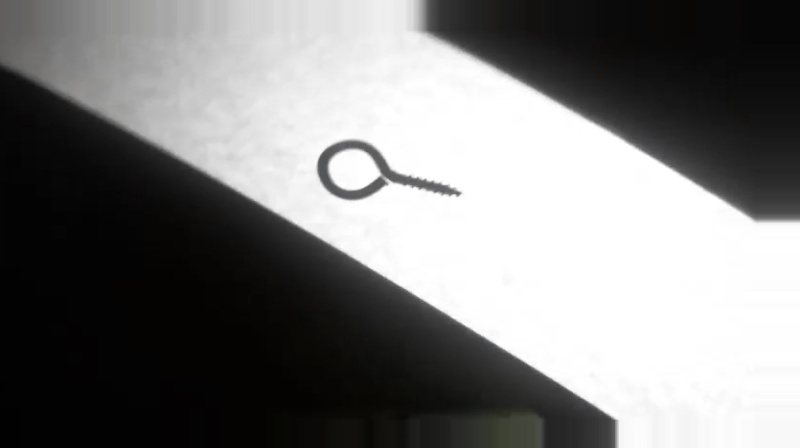O001: (314, 137, 466, 203)
